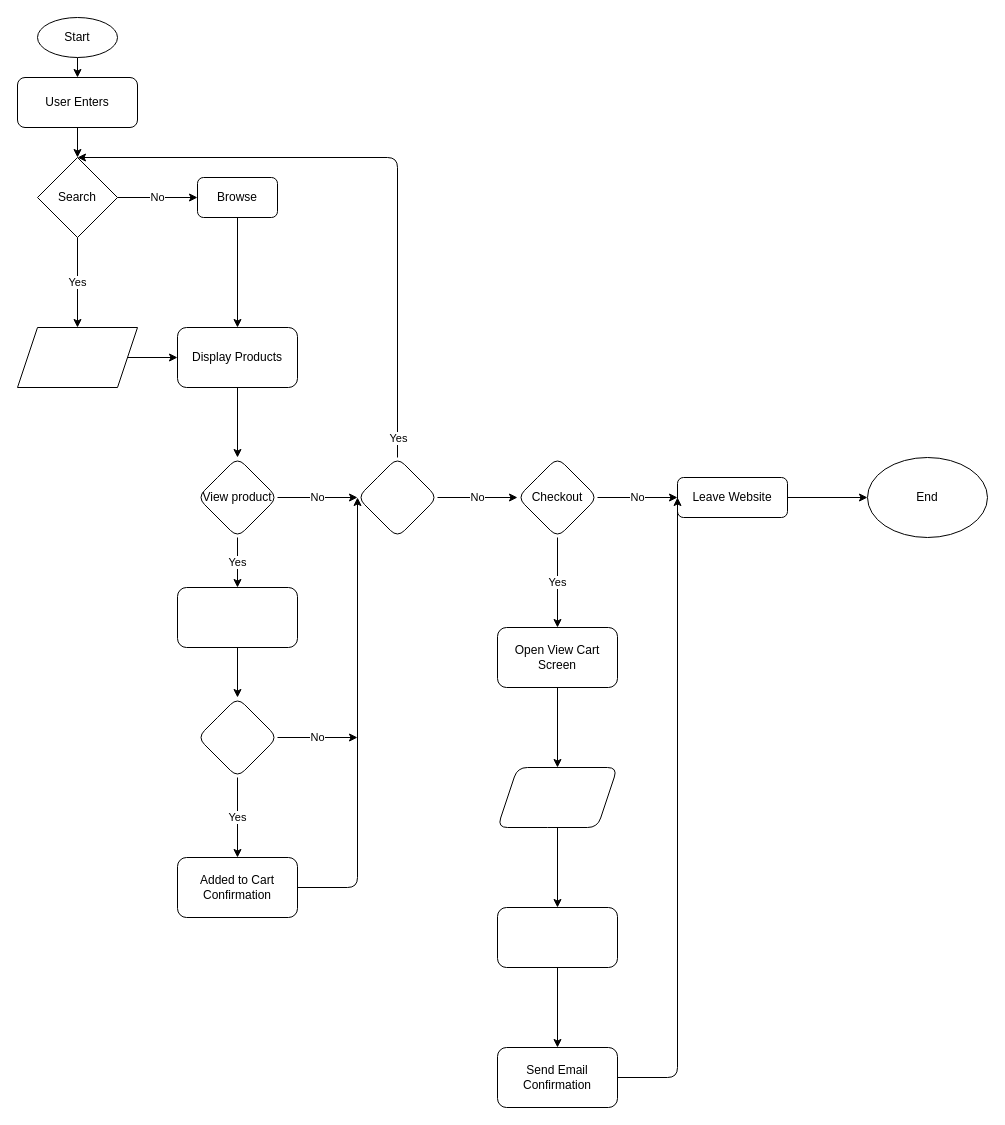
The diagram is 1005 pixels wide and 1125 high, and some of its shapes have lost their labels. The shapes that lost their labels are listed below. From the top down, each one's centre as x and y in pixels, then its label:
At pixel 77 357: "Read Search".
At pixel 397 497: "Continue Shopping".
At pixel 237 617: "Open Product Webpage".
At pixel 237 737: "Add to Cart".
At pixel 557 797: "Read Payment information".
At pixel 557 937: "Display Order Confirmation".
